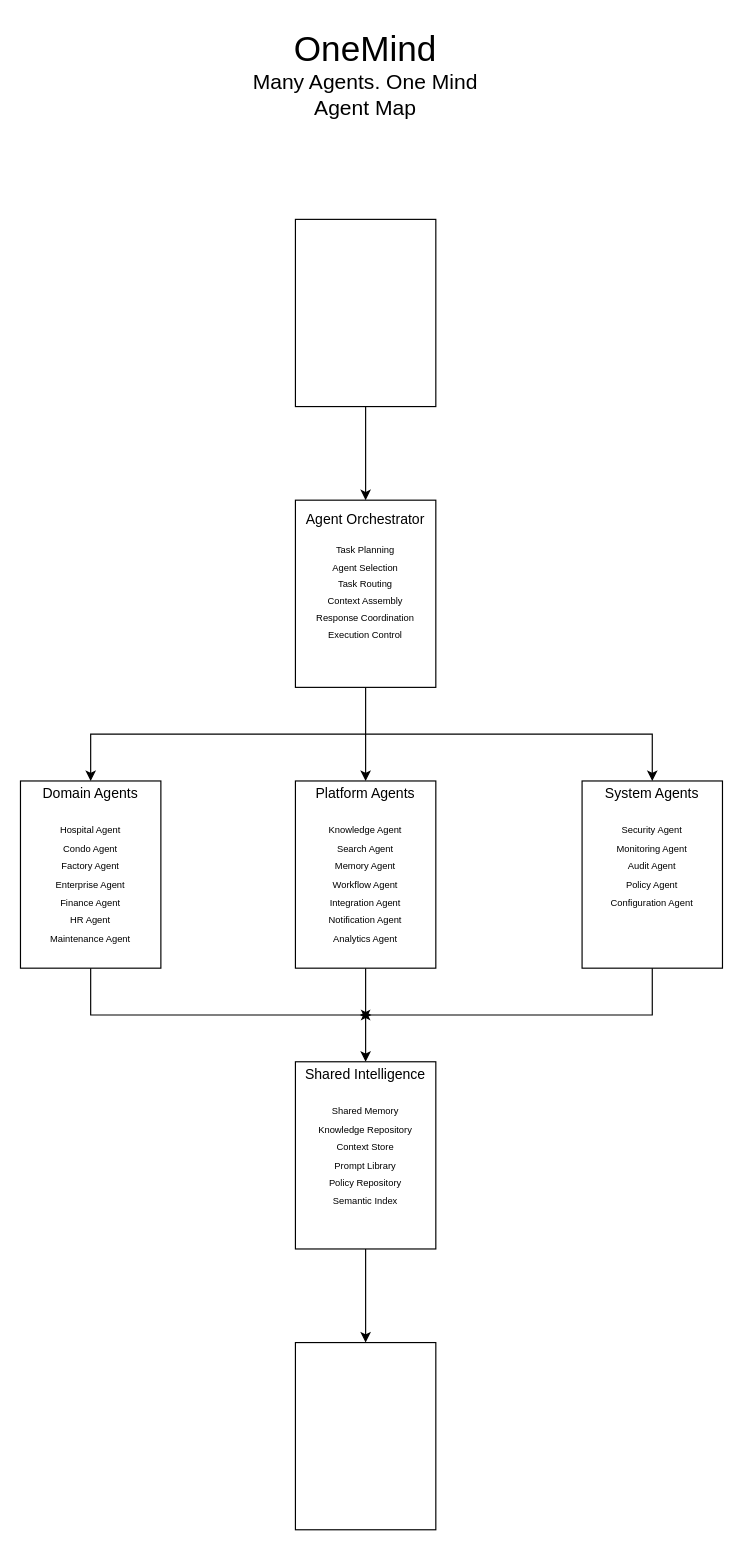
Some shapes in this 743 by 1560 pixel diagram are drawn without their labels. Here are the shapes that lost their labels. From the top down, the centre of each, then its label:
At point 365,312: "Users Citizen Employee Operator Manager Developer".
At point 365,1435: "External Tools LLMs Enterprise Systems IoT Databases Web APIs Documents".
